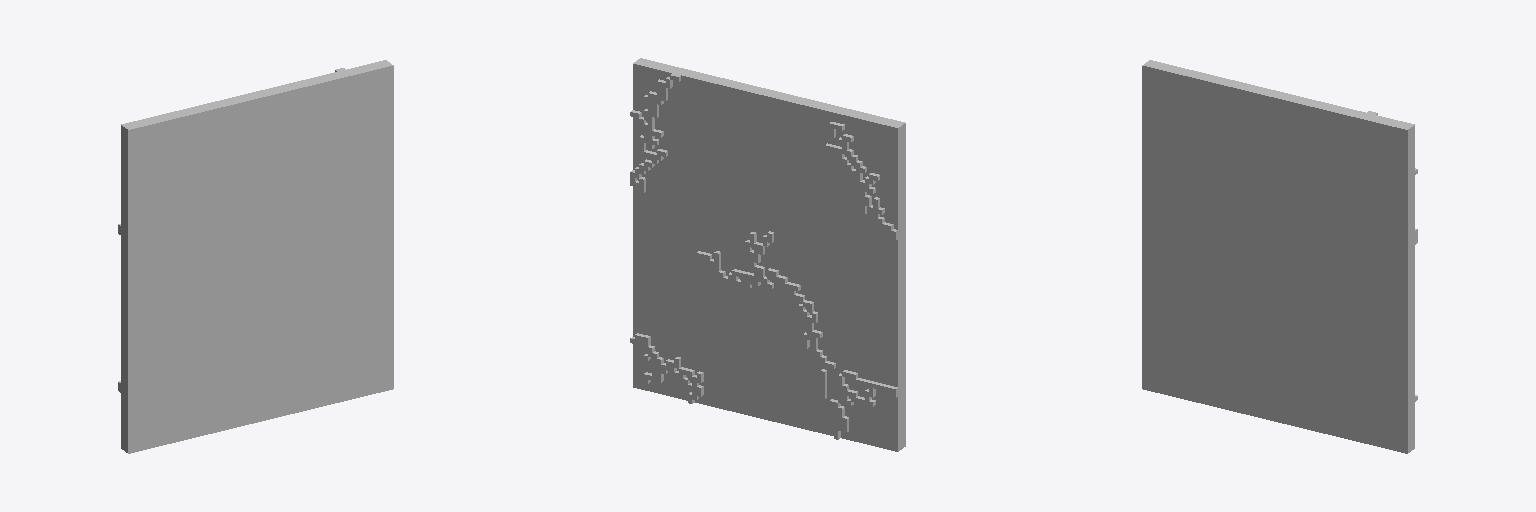
The model's file is mur pattern 2.obj.
3 views of the same model, side by side, from view 1: azimuth 30°, elevation 25°; view 2: azimuth 150°, elevation 25°; view 3: azimuth 330°, elevation 25° (orthographic).
Parts seen in each view (by area): view 1: object 1; view 2: object 1; view 3: object 1.
Boxes of the visible parts, x1,y1,x2,y2 form: object 1: [118, 60, 393, 453]; object 1: [630, 58, 905, 451]; object 1: [1142, 60, 1417, 453].
Bounding box in the file's own units: 6 × 7 × 0.4.